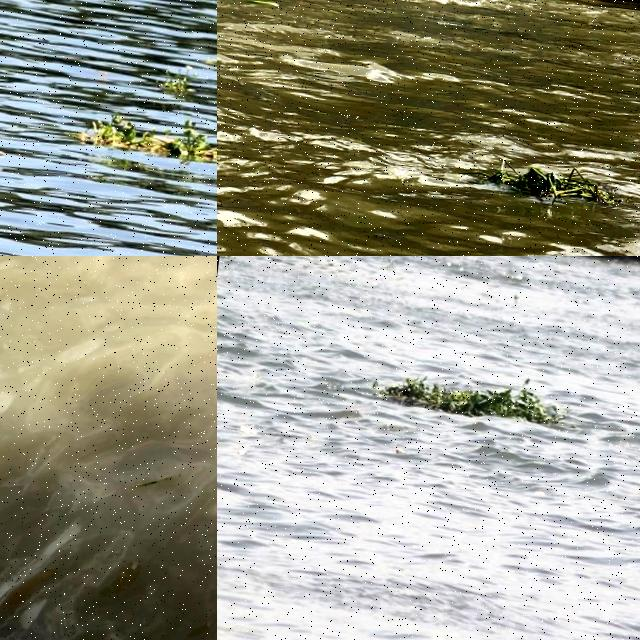water-hyacinth: (371, 361, 580, 429), (71, 109, 218, 169), (477, 154, 612, 212), (154, 63, 206, 104)
